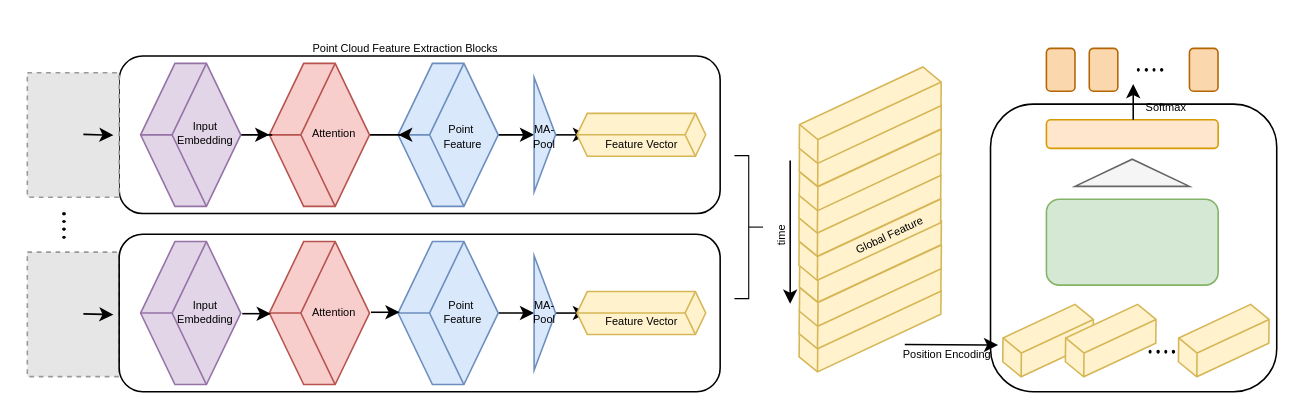
Image size: 1306x419. Some labels were removed from this diagram. Grey dashed boxes stand in for pictures. Here are the shapes that lost their labels. From the top down, the box of each, then its label:
(1045, 118, 1218, 148): Linear
(1073, 158, 1189, 186): Global Average Pool
(1045, 198, 1218, 285): Transformer Encoder
